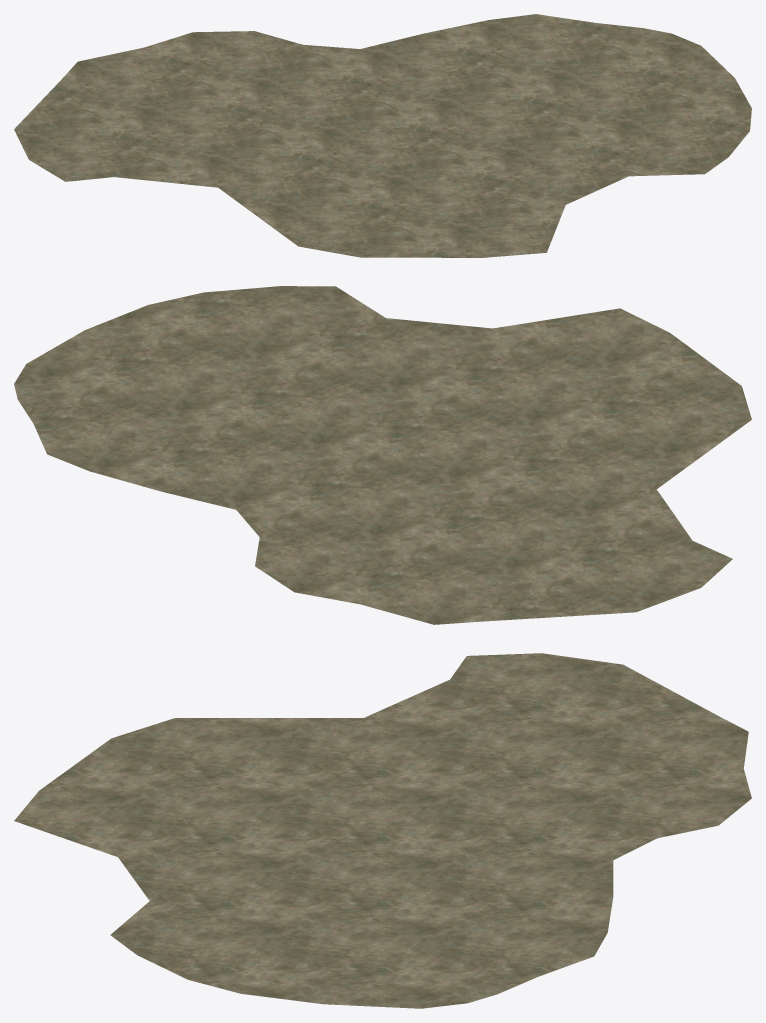
The model's file is EKH_JAIL_PS_JA_LINE21.fbx.
3 views of the same model, one above another, from view 1: azimuth 30°, elevation 25°; view 2: azimuth 150°, elevation 25°; view 3: azimuth 270°, elevation 25° (orthographic). The views are drawn at different scales.
Parts seen in each view (by area): view 1: EKH_JAIL_PS_JA_LINE21; view 2: EKH_JAIL_PS_JA_LINE21; view 3: EKH_JAIL_PS_JA_LINE21.
Boxes of the visible parts, x1,y1,x2,y2 form: EKH_JAIL_PS_JA_LINE21: (14,14,751,257); EKH_JAIL_PS_JA_LINE21: (14,286,751,624); EKH_JAIL_PS_JA_LINE21: (14,653,751,1008).
Size of the model in its own units: 107984 by 0.0215 by 94704.
Materials: 1 (1 with a texture image).
